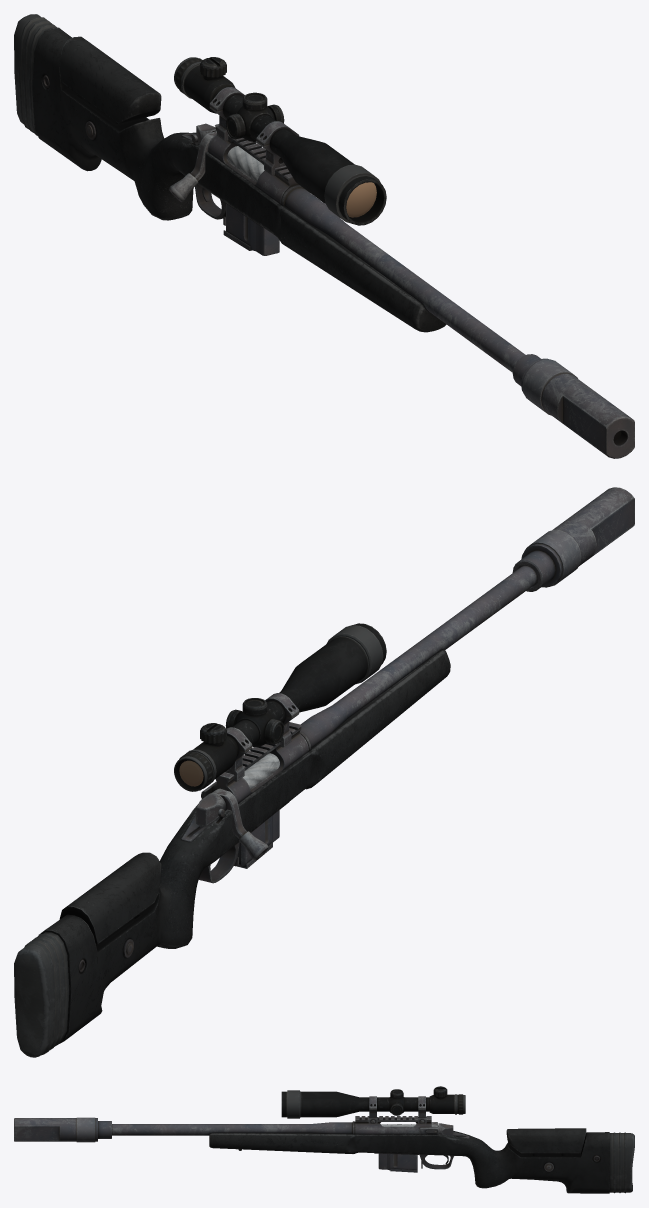
Rendered from Sniper.fbx.
3 renders of one model, top to bottom at view 1: azimuth 30°, elevation 25°; view 2: azimuth 150°, elevation 25°; view 3: azimuth 270°, elevation 25°, orthographic. The views are drawn at different scales.
Parts seen in each view (by area): view 1: Sniper, scope, silencer, cheekrest, bolt, clip; view 2: Sniper, scope, silencer, cheekrest, bolt, clip; view 3: Sniper, scope, silencer, cheekrest, clip, boltrear.
Part boxes in pixels (x1,y1,x2,y2): Sniper: [14, 14, 525, 372]; scope: [174, 57, 386, 225]; silencer: [512, 354, 634, 458]; cheekrest: [59, 36, 161, 123]; bolt: [169, 131, 264, 202]; clip: [223, 204, 279, 255]; Sniper: [14, 565, 537, 1057]; scope: [174, 623, 386, 791]; silencer: [512, 487, 634, 591]; cheekrest: [59, 852, 161, 944]; bolt: [212, 753, 279, 860]; clip: [236, 810, 279, 868]; Sniper: [112, 1116, 634, 1193]; scope: [281, 1086, 465, 1123]; silencer: [14, 1117, 111, 1142]; cheekrest: [506, 1128, 586, 1155]; clip: [378, 1153, 417, 1172]; boltrear: [438, 1123, 453, 1135].
Bounding box in the file's own units: 0.0995 × 0.2648 × 1.43.
